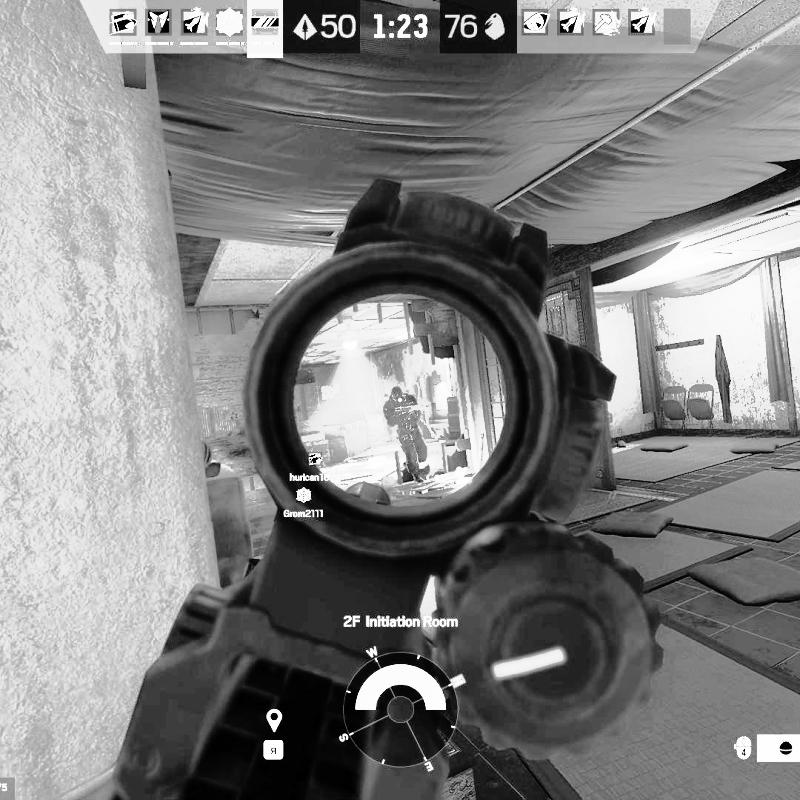Character: (382, 384, 433, 486)
Friend_label: (289, 450, 341, 482), (283, 486, 324, 520)
Head: (389, 384, 404, 401)
